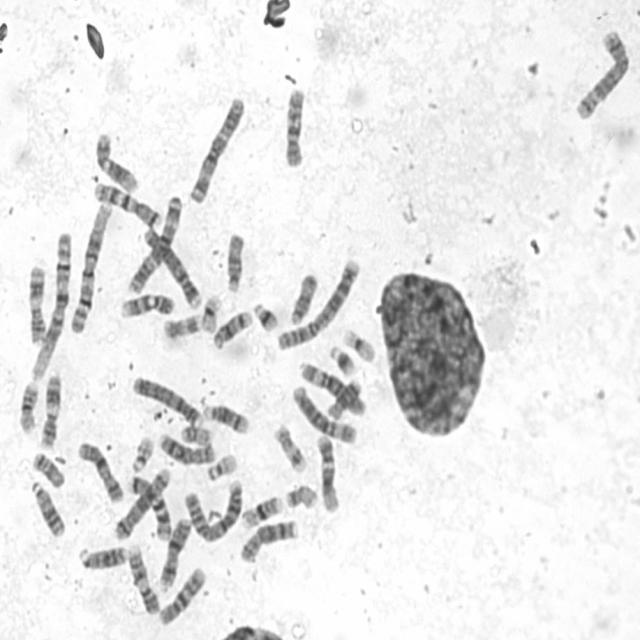A1: (27, 227, 74, 382), (68, 197, 114, 335)
A2: (273, 253, 362, 352), (180, 473, 245, 544)
A3: (185, 91, 248, 206), (125, 190, 185, 295)
B4: (140, 222, 203, 309), (130, 371, 205, 428)
B5: (571, 24, 632, 122), (112, 460, 172, 545)
C10: (155, 561, 208, 628), (280, 82, 308, 170)
C11: (36, 368, 64, 451), (25, 259, 48, 346)
C12: (92, 128, 140, 194), (313, 431, 342, 514)
C6: (288, 380, 359, 445), (296, 357, 368, 418)
C7: (116, 466, 172, 542), (91, 177, 163, 229)
C8: (237, 514, 300, 564), (155, 427, 218, 466)
C9: (125, 539, 162, 615), (116, 289, 176, 320)
D13: (27, 477, 66, 539), (76, 540, 130, 572)
D14: (209, 305, 255, 351), (199, 398, 251, 435)
D15: (286, 268, 320, 327), (223, 228, 246, 295)
E16: (238, 491, 285, 531), (16, 376, 42, 435)
E17: (271, 419, 308, 475), (160, 308, 204, 340)
E18: (323, 374, 364, 421), (30, 447, 66, 489)
F19: (339, 324, 378, 364), (198, 290, 224, 334)
F20: (282, 480, 320, 511), (178, 421, 215, 446)
G21: (327, 341, 358, 378), (250, 297, 280, 333)
G22: (128, 430, 156, 474), (204, 449, 238, 482)
X: (74, 437, 126, 504), (156, 513, 194, 591)
